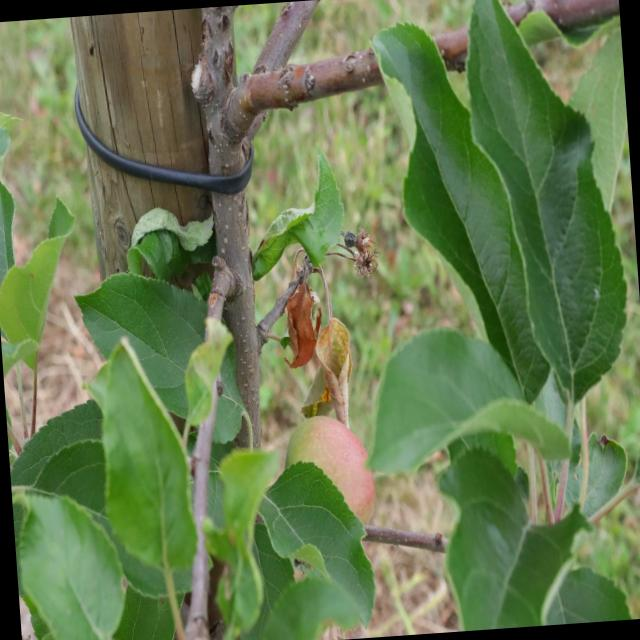-FireBlight-: (278, 256, 318, 366)
